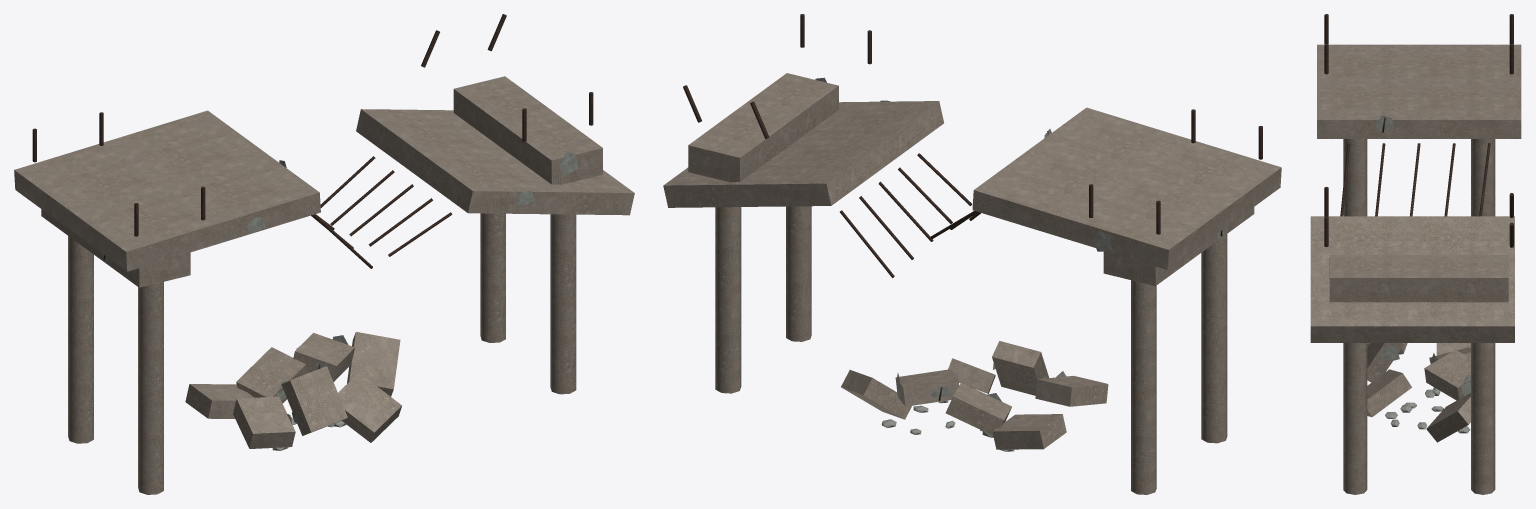
File: f3_native_collapsedOverpass.glb
The picture shows the model from 3 angles, left to right: view 1: azimuth 30°, elevation 25°; view 2: azimuth 150°, elevation 25°; view 3: azimuth 270°, elevation 25°; orthographic projection. The views are drawn at different scales.
Visible parts, largest first — view 1: f3_weathered_concrete_surface, f3_oxidized_iron_surface, f3_exposed_aggregate_surface; view 2: f3_weathered_concrete_surface, f3_oxidized_iron_surface, f3_exposed_aggregate_surface; view 3: f3_weathered_concrete_surface, f3_oxidized_iron_surface, f3_exposed_aggregate_surface.
Boxes of the visible parts, <box> form: f3_weathered_concrete_surface: <box>14,76,634,494</box>; f3_oxidized_iron_surface: <box>32,14,593,369</box>; f3_exposed_aggregate_surface: <box>101,153,578,450</box>; f3_weathered_concrete_surface: <box>663,73,1281,494</box>; f3_oxidized_iron_surface: <box>683,14,1262,400</box>; f3_exposed_aggregate_surface: <box>815,77,1227,451</box>; f3_weathered_concrete_surface: <box>1310,44,1521,494</box>; f3_oxidized_iron_surface: <box>1324,14,1513,247</box>; f3_exposed_aggregate_surface: <box>1329,115,1470,433</box>.
Size of the model in its own units: 8.33 by 4.98 by 3.31.
Materials: 3 (3 with a texture image).
